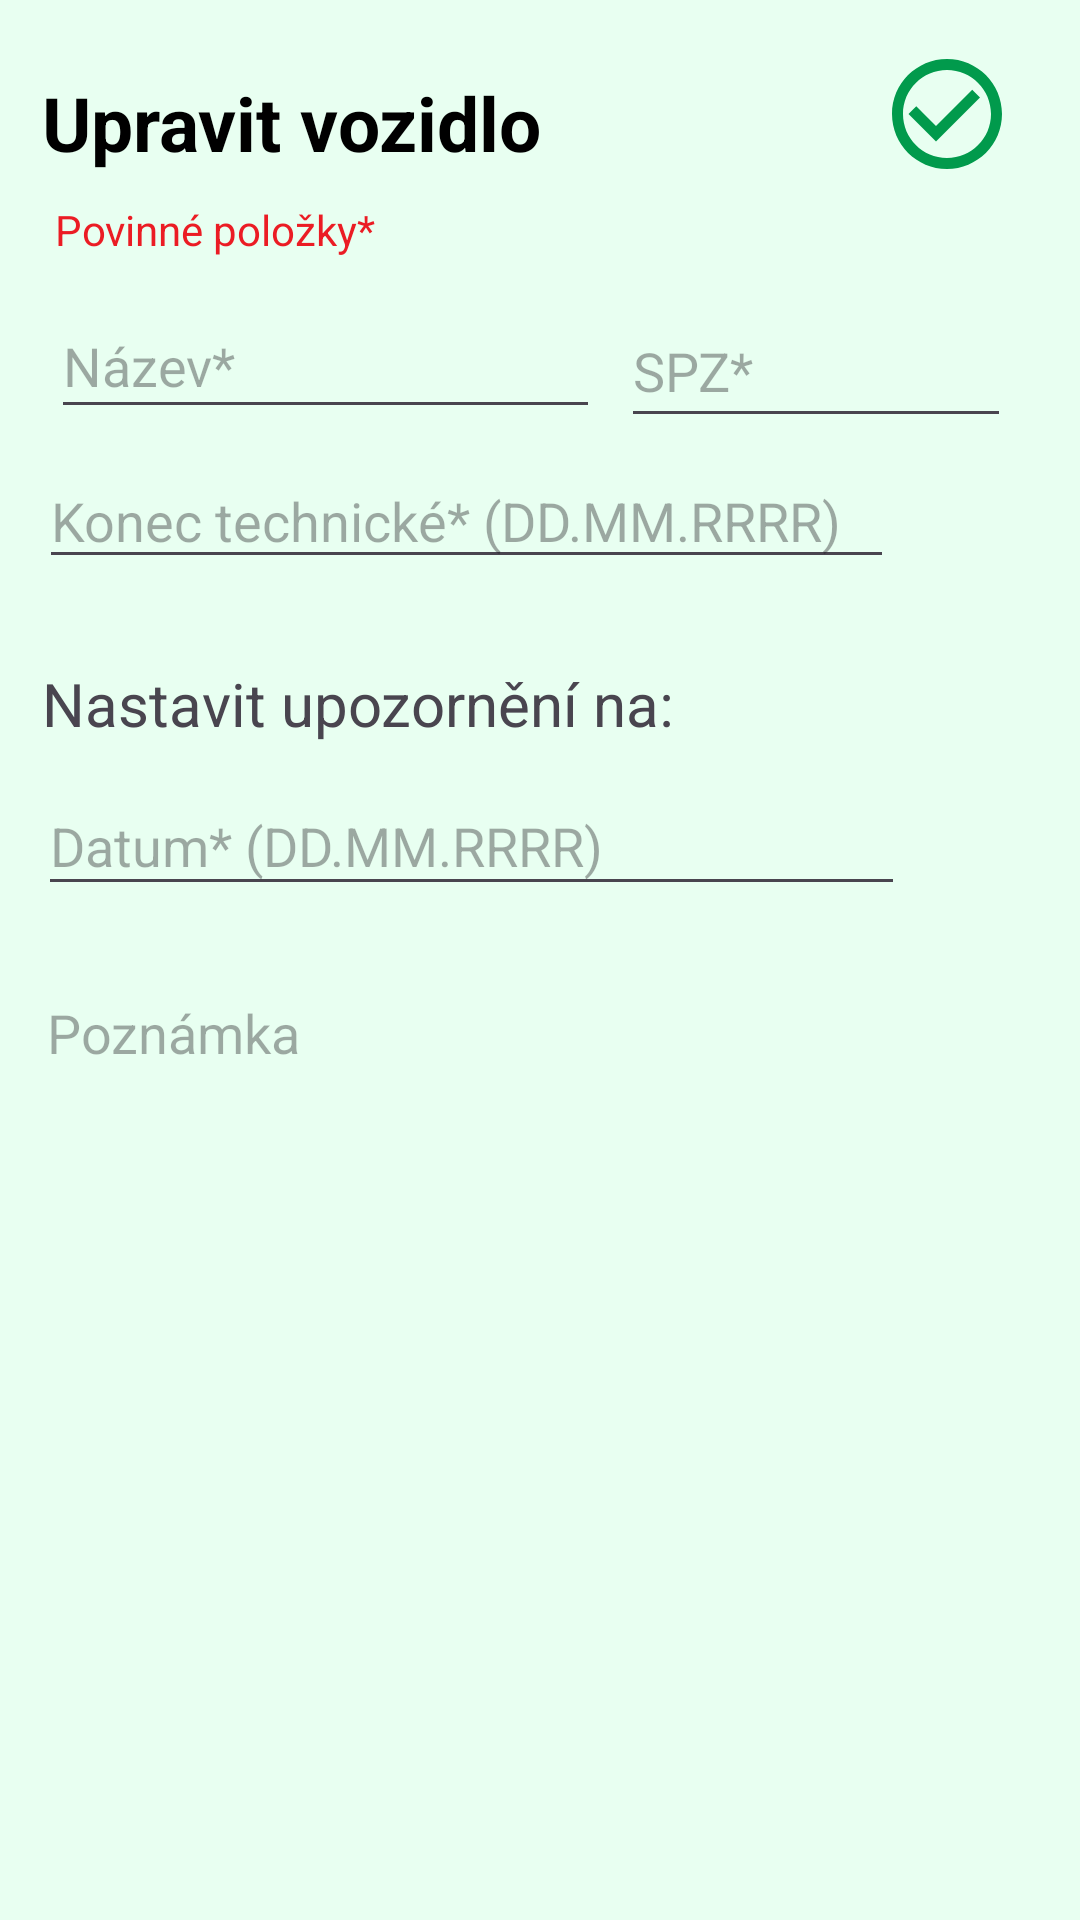

Locate icon controls on the screen. Image size 1080px x 1920px, boxes as (x1,y1,x2,y2).
check circle: (892,59,1002,169)
